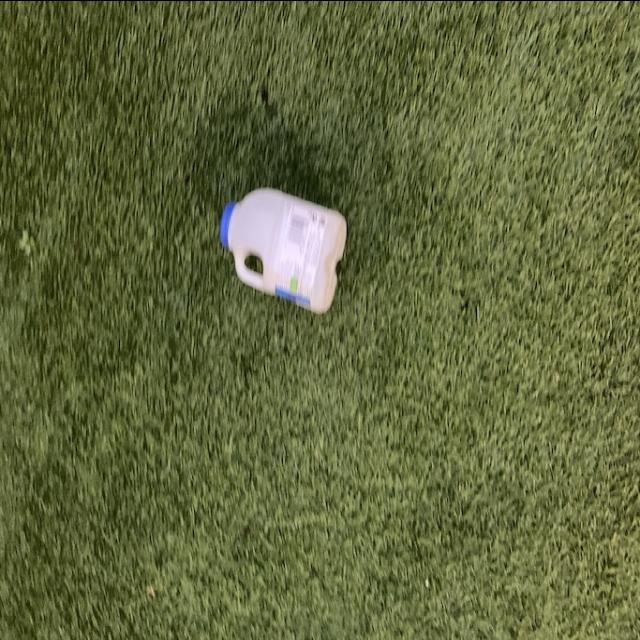HDPEM: (216, 182, 348, 316)
